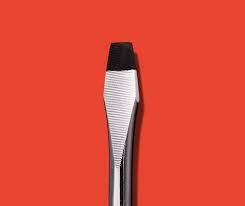screwdriver: (102, 40, 139, 205)
